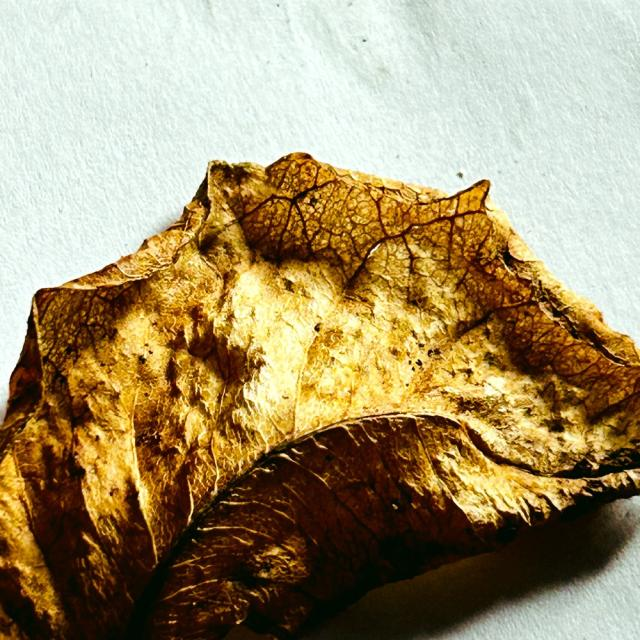DryLeaf_Lemon: (0, 153, 639, 639)
